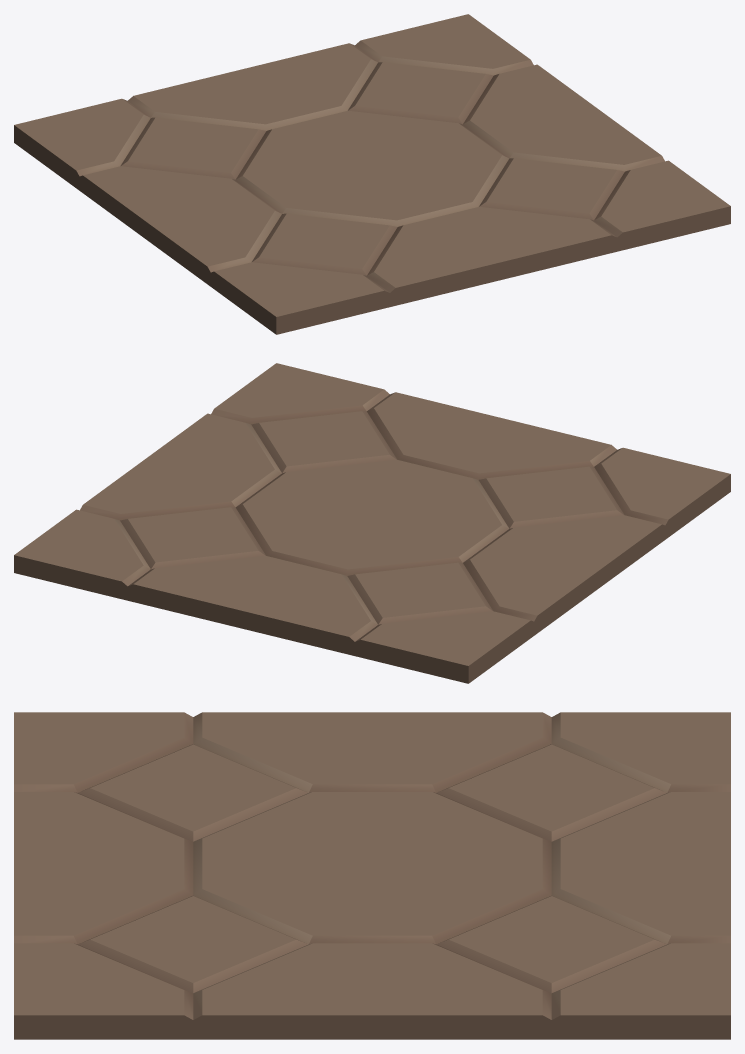
The model's file is kaykit_dungeon_floor_tile_large.glb.
The picture shows the model from 3 angles, top to bottom: view 1: azimuth 30°, elevation 25°; view 2: azimuth 150°, elevation 25°; view 3: azimuth 270°, elevation 25°; orthographic projection. The views are drawn at different scales.
Visible parts, largest first — view 1: floor_tile_large; view 2: floor_tile_large; view 3: floor_tile_large.
Part boxes in pixels (box(x1,y1,x2,y2)): floor_tile_large: box(14, 14, 730, 334); floor_tile_large: box(14, 363, 730, 683); floor_tile_large: box(14, 712, 730, 1039).
Size of the model in its own units: 4 by 0.15 by 4.
Materials: 1 (1 with a texture image).
